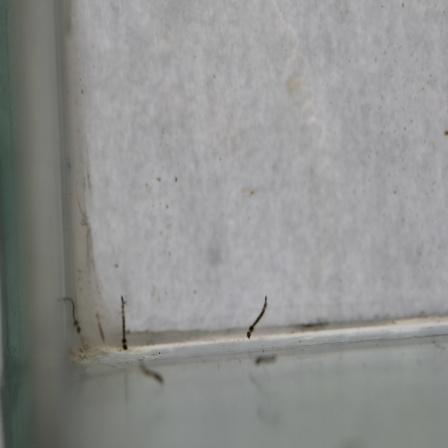Jentik-Nyamuk: (112, 293, 135, 355), (242, 293, 272, 338), (61, 291, 83, 338)
